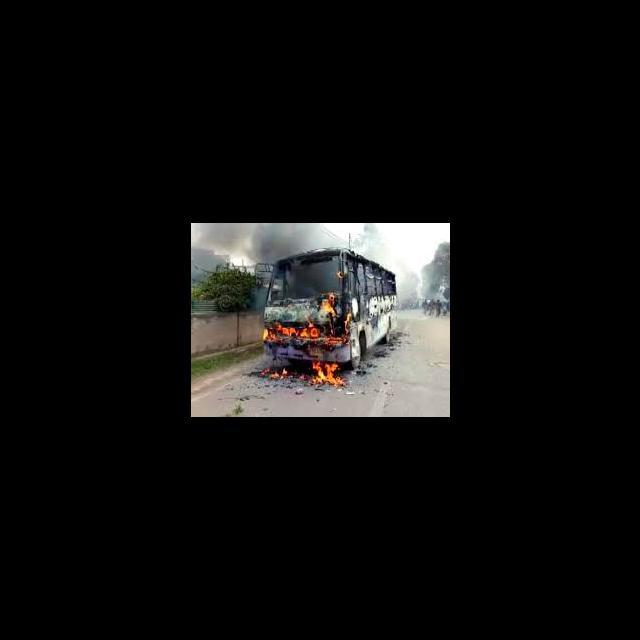Fire: (260, 302, 353, 346), (305, 361, 344, 389), (258, 364, 288, 381)
